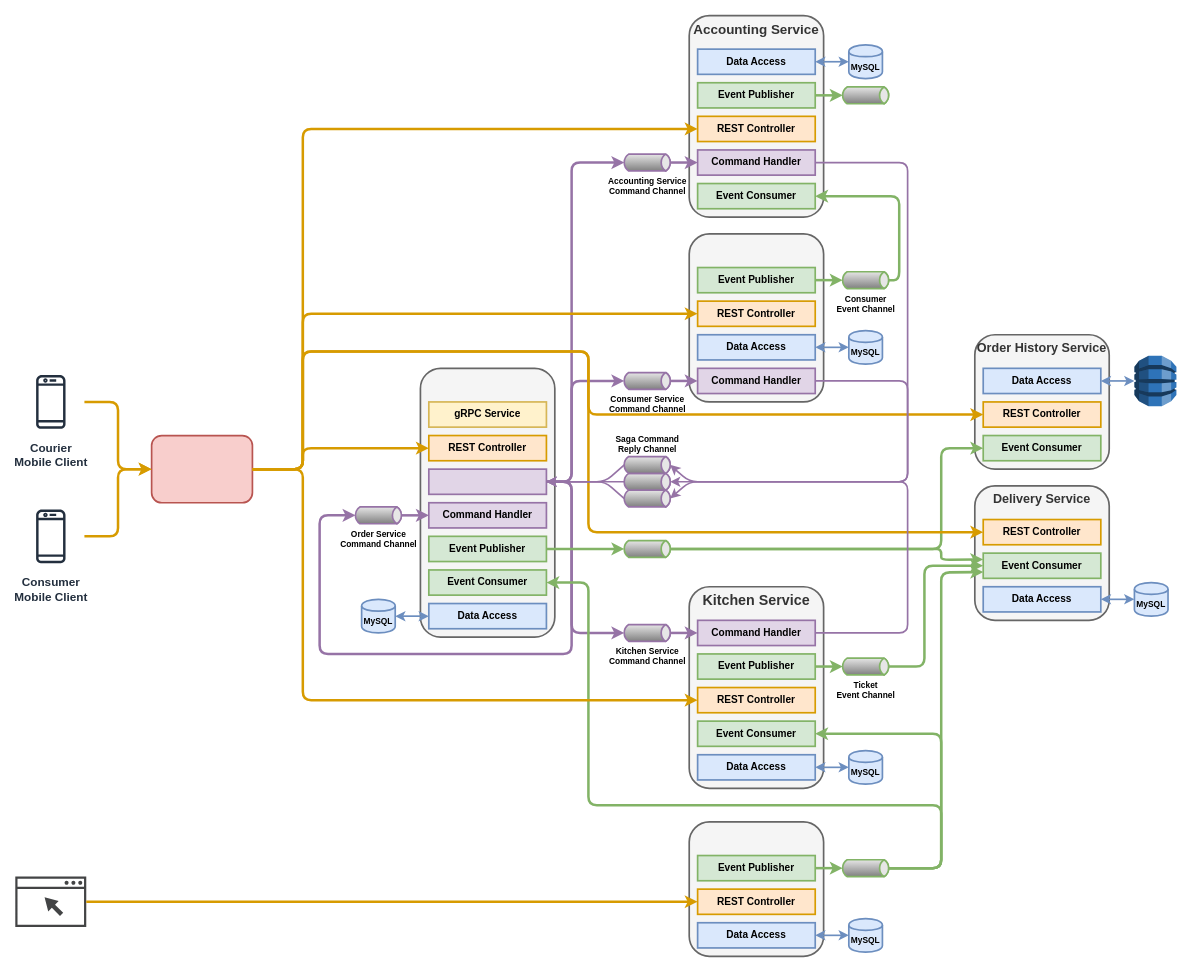
This 1193x975 diagram has some shape labels left out. The box of each missing label's shape, as (x1, y1, x2, y2) in pixels:
Account Event Channel: (839, 86, 891, 104)
API Gateway (Mobile BFF): (150, 434, 253, 503)
Consumer Service: (688, 233, 824, 402)
DynamoDB: (1133, 354, 1177, 407)
Order Event Channel: (621, 539, 673, 558)
Order Service: (419, 367, 555, 638)
Restaurant Event Channel: (839, 858, 891, 877)
Restaurant Service: (688, 821, 824, 957)
Restaurant Web Client: (15, 876, 86, 927)
Saga Command Dispatcher: (428, 468, 547, 495)
